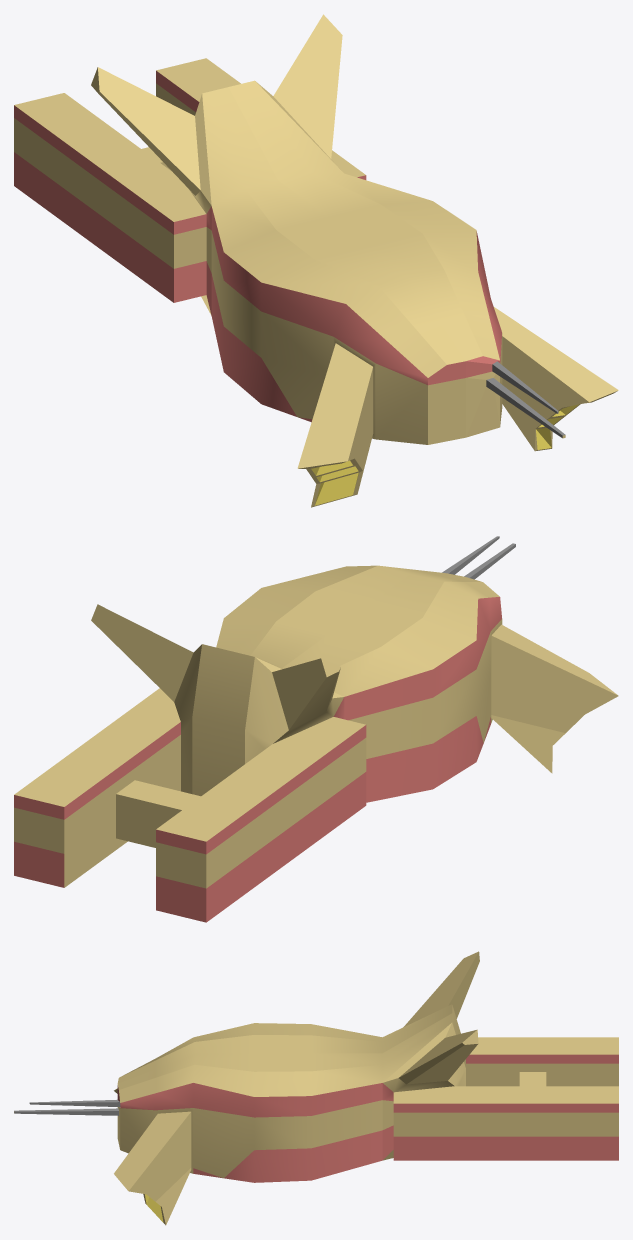
Rendered from drone.fbx.
3 renders of one model, top to bottom at view 1: azimuth 30°, elevation 25°; view 2: azimuth 150°, elevation 25°; view 3: azimuth 270°, elevation 25°, orthographic. The views are drawn at different scales.
Parts seen in each view (by area): view 1: polySurface1; view 2: polySurface1; view 3: polySurface1.
Part boxes in pixels (left/top/right/bottom): polySurface1: left=14, top=14, right=618, bottom=507; polySurface1: left=14, top=536, right=618, bottom=922; polySurface1: left=14, top=951, right=618, bottom=1225.
Bounding box in the file's own units: 3.05 × 2.5 × 7.05.
